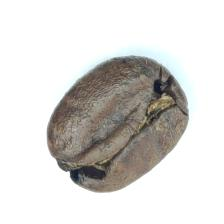NG: (69, 74, 173, 182)
